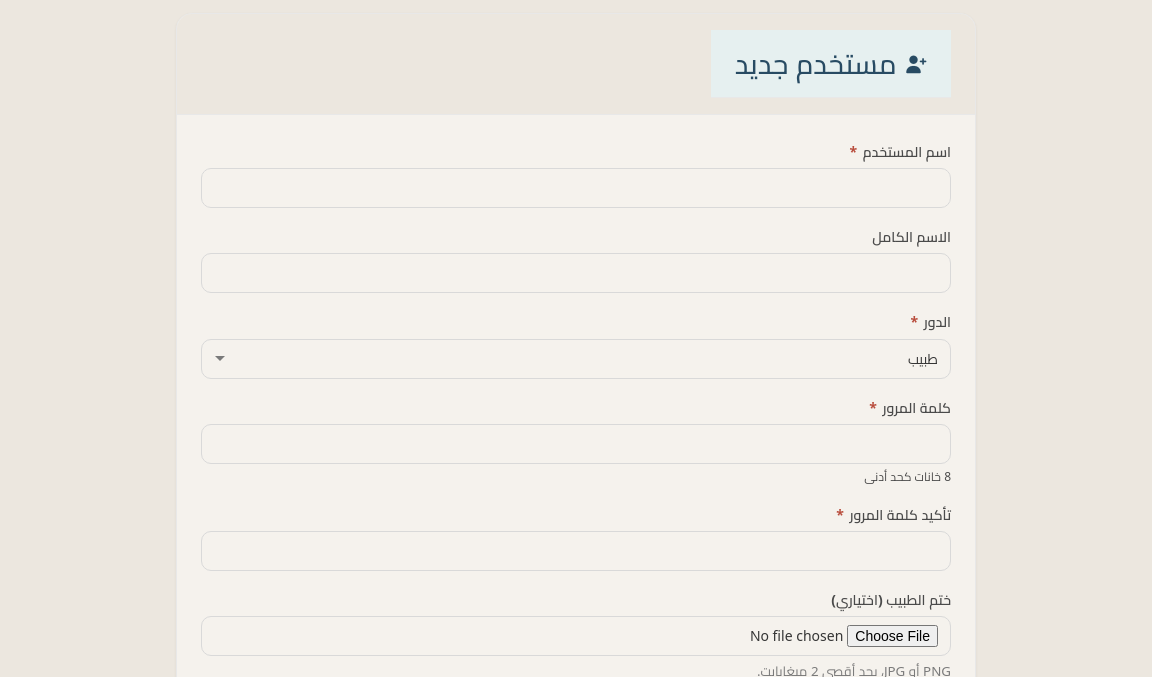
Scenario: user form validation and opening versions › rejects empty password before creating an account
Type "synthetic_new" into the field labelled "اسم المستخدم *".
click(576, 188); type("synthetic_new")  # box left=201, top=168, right=951, bottom=208
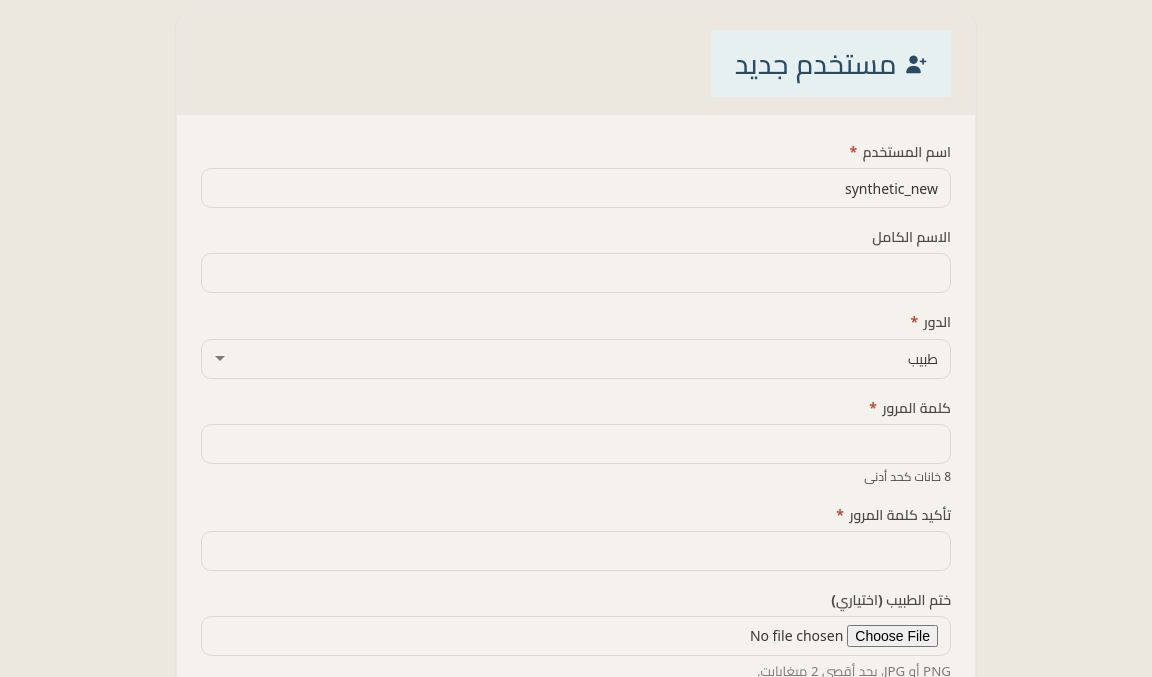
Type "Synthetic-Suite-Pass!42" into the password field labelled "تأكيد كلمة المرور *".
click(576, 551); type("Synthetic-Suite-Pass!42")  # box left=201, top=531, right=951, bottom=571
(page scrolled)
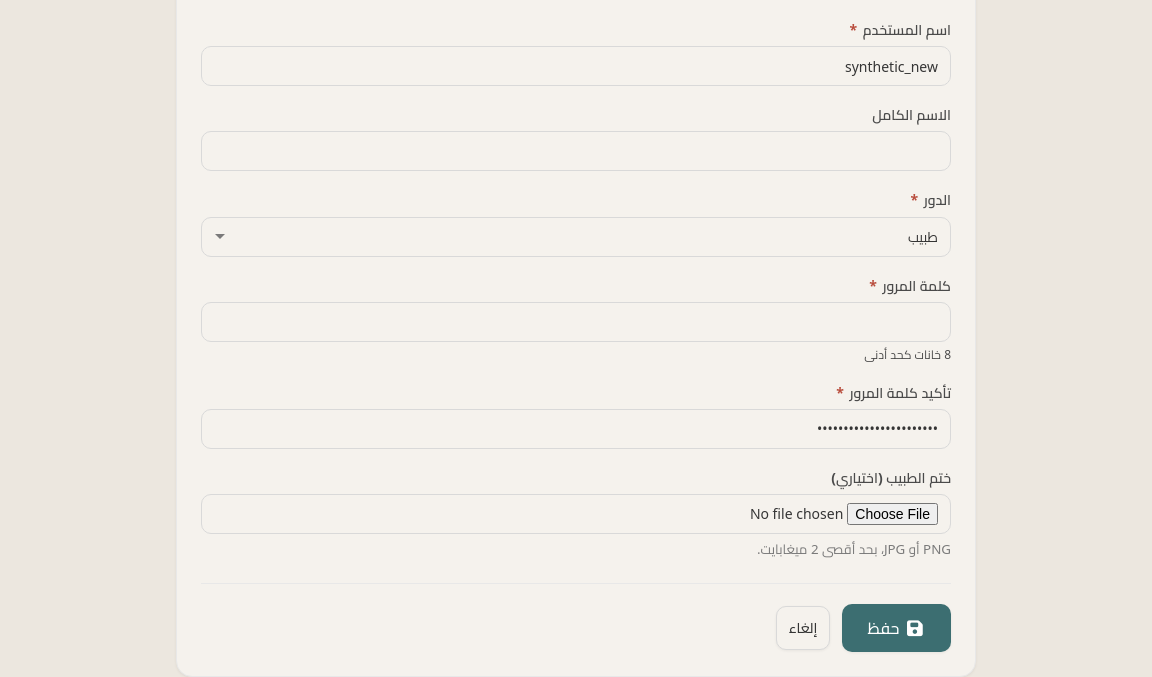
Submit the form
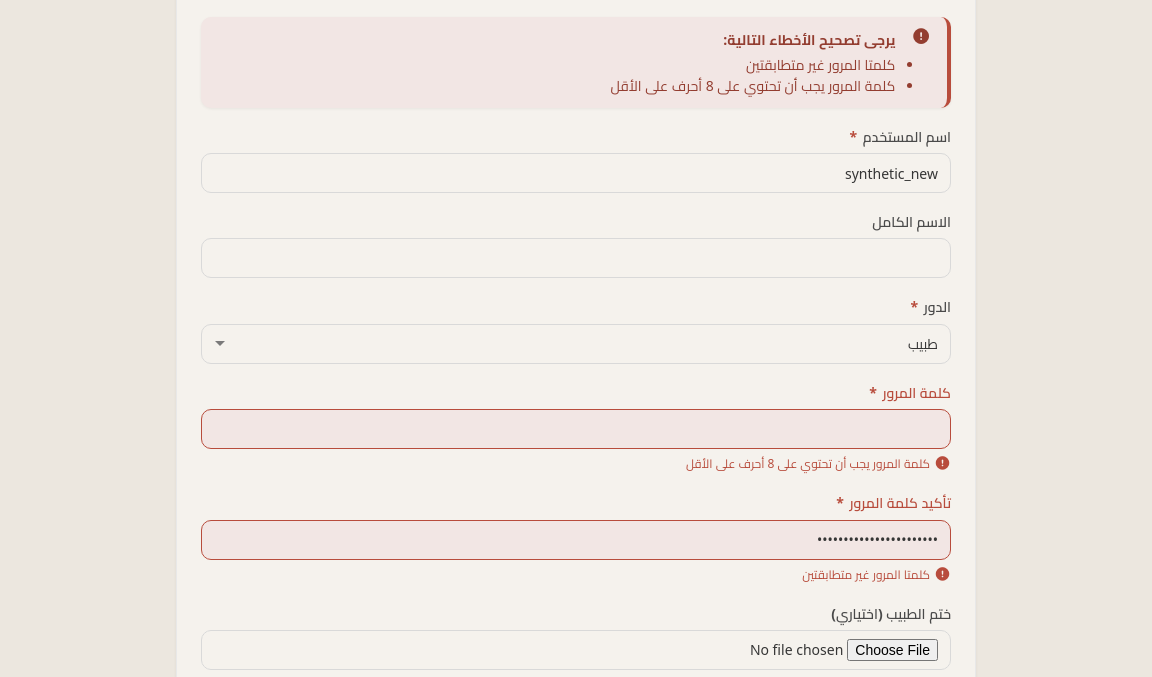
expect the element with class "alert--danger" is shown: met, box left=201, top=17, right=951, bottom=108
